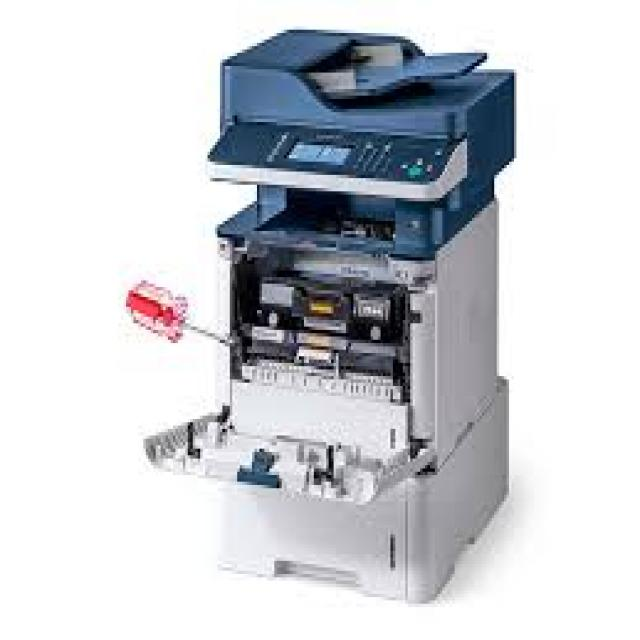printer: (116, 18, 528, 604)
